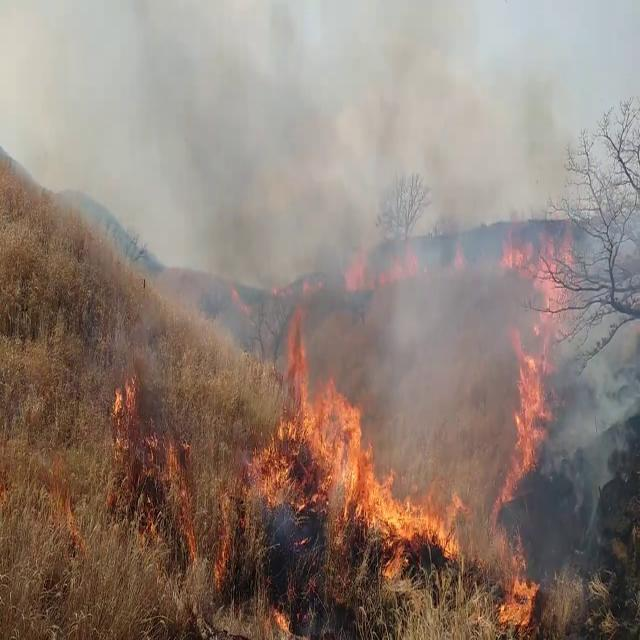Fire: (252, 303, 482, 622), (501, 304, 557, 496), (110, 366, 138, 430)
Smoke: (168, 5, 609, 446)
